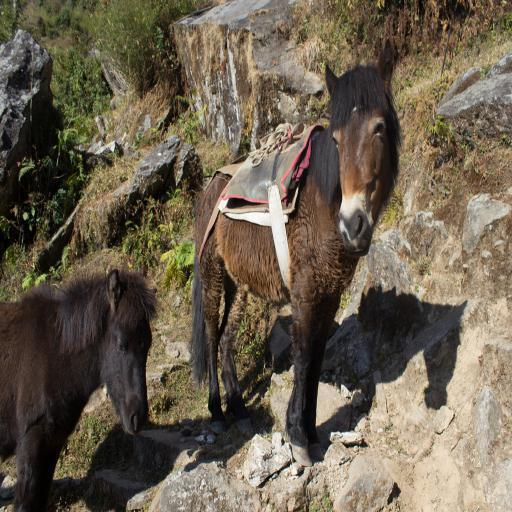horse: (186, 36, 404, 467), (0, 267, 163, 512)
